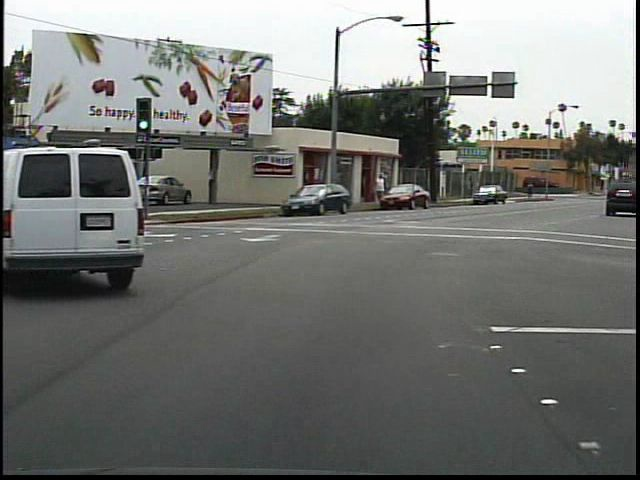person: (371, 167, 392, 209), (524, 178, 536, 201)
